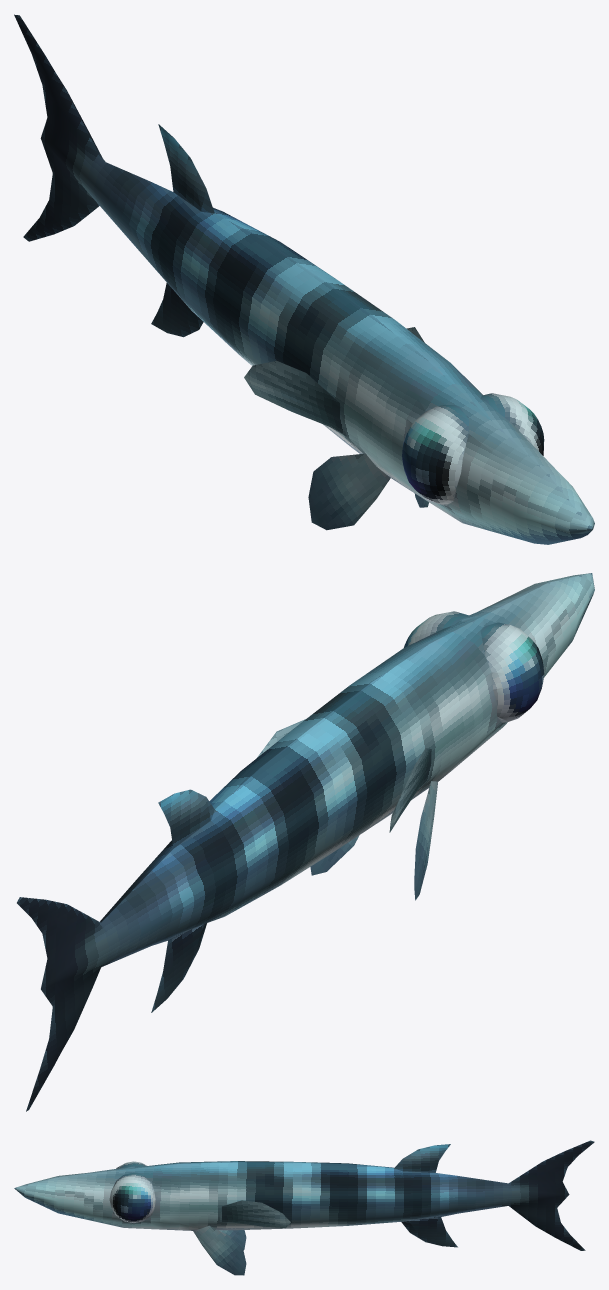
3 views of the same model, one above another, from view 1: azimuth 30°, elevation 25°; view 2: azimuth 150°, elevation 25°; view 3: azimuth 270°, elevation 25° (orthographic). The views are drawn at different scales.
Visible parts, largest first — view 1: senet_0; view 2: senet_0; view 3: senet_0.
Boxes of the visible parts, x1,y1,x2,y2 form: senet_0: (14, 14, 594, 544); senet_0: (17, 573, 594, 1111); senet_0: (14, 1140, 594, 1275).
Bounding box in the file's own units: 0.056 × 0.0894 × 0.3819.
Materials: 1 (1 with a texture image).
